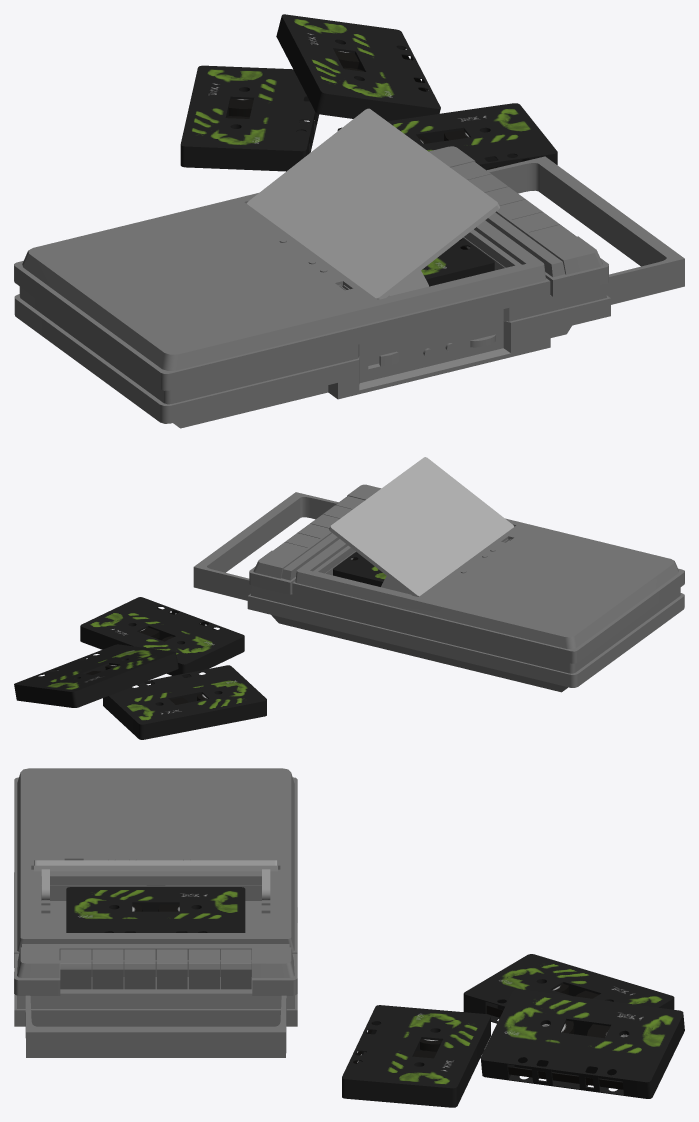
The model's file is TapeRecorder.fbx.
3 views of the same model, one above another, from view 1: azimuth 30°, elevation 25°; view 2: azimuth 150°, elevation 25°; view 3: azimuth 270°, elevation 25° (orthographic). The views are drawn at different scales.
Visible parts, largest first — view 1: Bake_ao_1_low, Bake_ao_2_low, Cassette1, Cassette2, Cassette3, Cassette; view 2: Bake_ao_1_low, Bake_ao_2_low, Cassette1, Cassette3, Cassette2, Cassette; view 3: Bake_ao_1_low, Cassette2, Cassette3, Cassette, Cassette1, Bake_ao_2_low.
Part boxes in pixels (bbox=[...]): Bake_ao_1_low: bbox=[14, 146, 684, 428]; Bake_ao_2_low: bbox=[246, 108, 499, 299]; Cassette1: bbox=[180, 65, 319, 171]; Cassette2: bbox=[276, 14, 440, 121]; Cassette3: bbox=[337, 103, 557, 170]; Cassette: bbox=[421, 238, 494, 286]; Bake_ao_1_low: bbox=[193, 484, 684, 692]; Bake_ao_2_low: bbox=[329, 457, 514, 596]; Cassette1: bbox=[103, 665, 266, 739]; Cassette3: bbox=[80, 597, 244, 677]; Cassette2: bbox=[14, 644, 178, 707]; Cassette: bbox=[333, 552, 386, 586]; Bake_ao_1_low: bbox=[14, 768, 297, 1057]; Cassette2: bbox=[480, 989, 684, 1098]; Cassette3: bbox=[342, 1005, 490, 1107]; Cassette: bbox=[66, 887, 245, 932]; Cassette1: bbox=[463, 954, 674, 1023]; Bake_ao_2_low: bbox=[34, 860, 277, 901].
Size of the model in its own units: 35.51 by 8.53 by 37.5.
